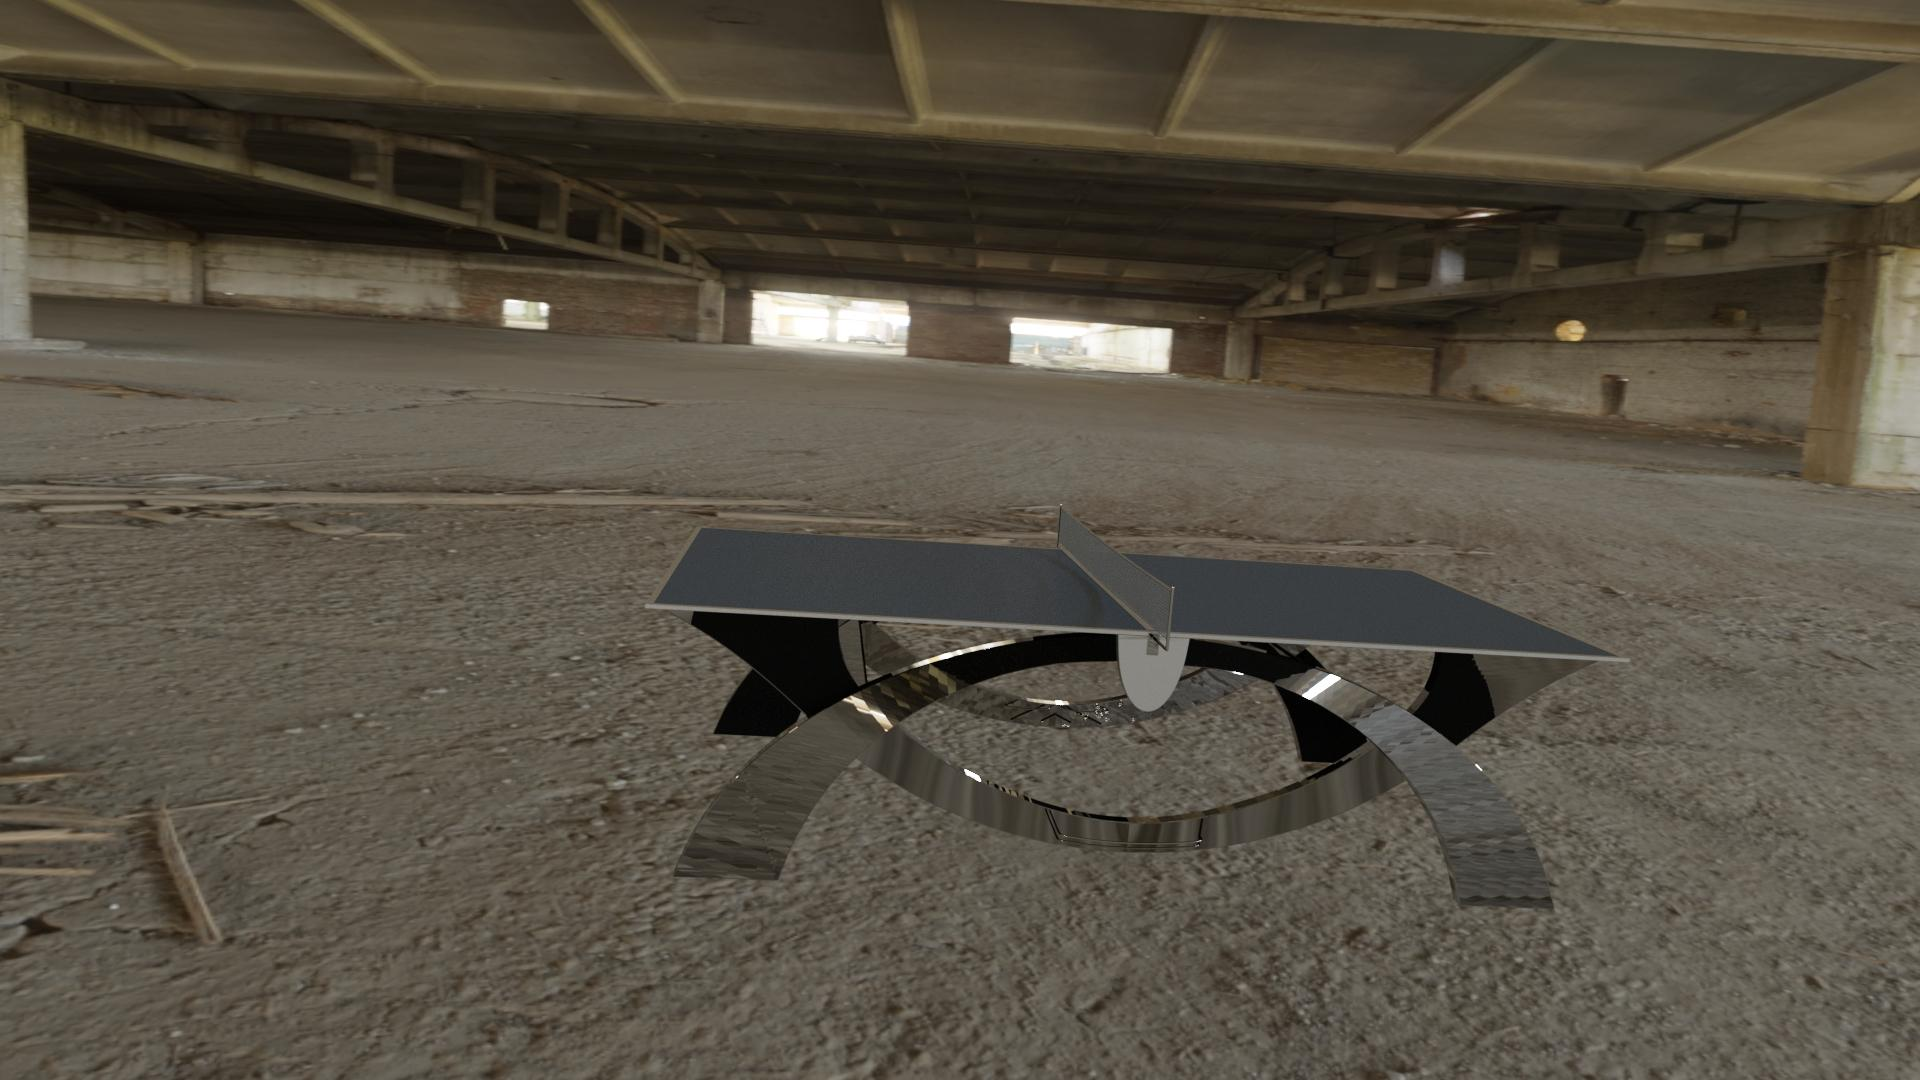table: (654, 527, 1619, 657)
